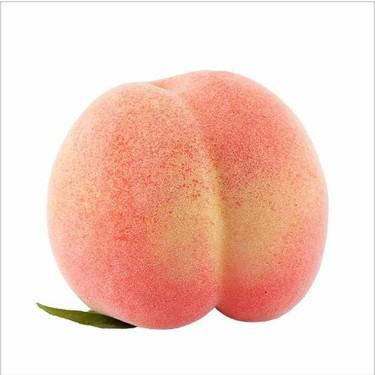Peach Ripe: (49, 71, 327, 328)
